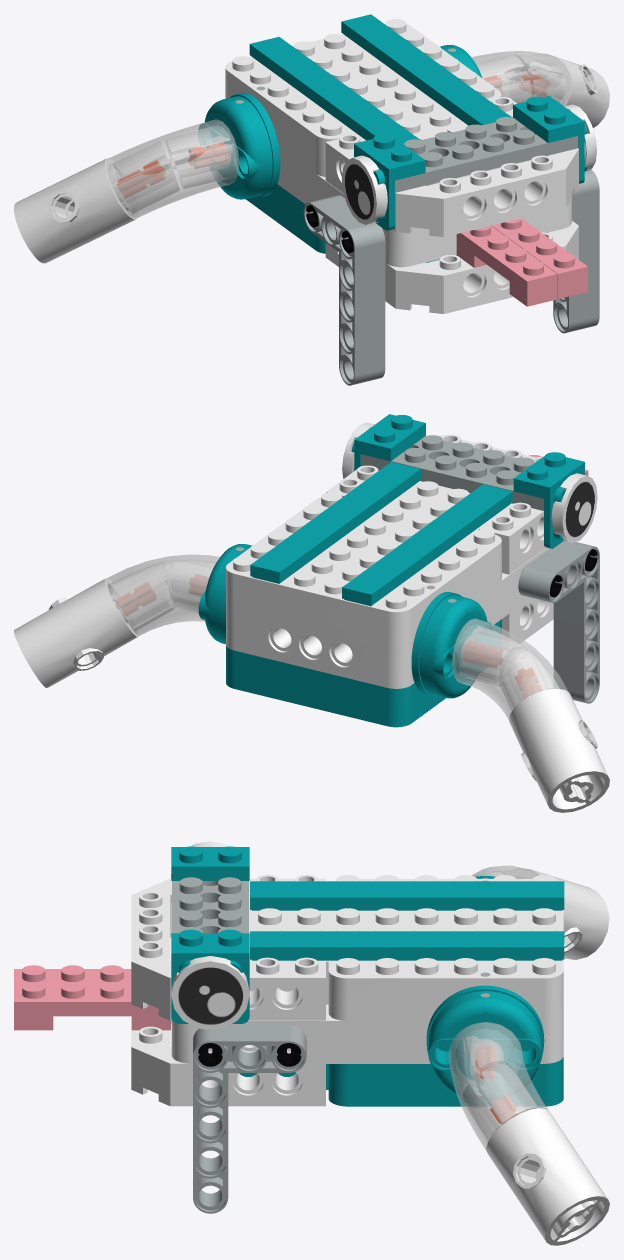
The model's file is Sapo 1.glb.
3 views of the same model, one above another, from view 1: azimuth 30°, elevation 25°; view 2: azimuth 150°, elevation 25°; view 3: azimuth 270°, elevation 25° (orthographic). The views are drawn at different scales.
Visible parts, largest first — view 1: Inner-Node-Sapo_dot_io-0, Inner-Node-Sapo_dot_io-4, Inner-Node-Sapo_dot_io-14, Inner-Node-Sapo_dot_io-21, Inner-Node-Sapo_dot_io-23, Inner-Node-Sapo_dot_io-1, Inner-Node-Sapo_dot_io-5, Inner-Node-Sapo_dot_io-24, Inner-Node-Sapo_dot_io-25, Inner-Node-Sapo_dot_io-2, Inner-Node-Sapo_dot_io-10, Inner-Node-Sapo_dot_io-17 (+7 smaller); view 2: Inner-Node-Sapo_dot_io-0, Inner-Node-Sapo_dot_io-23, Inner-Node-Sapo_dot_io-14, Inner-Node-Sapo_dot_io-19, Inner-Node-Sapo_dot_io-21, Inner-Node-Sapo_dot_io-25, Inner-Node-Sapo_dot_io-24, Inner-Node-Sapo_dot_io-17, Inner-Node-Sapo_dot_io-5, Inner-Node-Sapo_dot_io-4, Inner-Node-Sapo_dot_io-6, Inner-Node-Sapo_dot_io-11 (+3 smaller); view 3: Inner-Node-Sapo_dot_io-0, Inner-Node-Sapo_dot_io-4, Inner-Node-Sapo_dot_io-19, Inner-Node-Sapo_dot_io-25, Inner-Node-Sapo_dot_io-24, Inner-Node-Sapo_dot_io-10, Inner-Node-Sapo_dot_io-17, Inner-Node-Sapo_dot_io-1, Inner-Node-Sapo_dot_io-3, Inner-Node-Sapo_dot_io-11.001, Inner-Node-Sapo_dot_io-5, Inner-Node-Sapo_dot_io-23 (+4 smaller).
Boxes of the visible parts, <box> form: Inner-Node-Sapo_dot_io-0: <box>198,19,571,267</box>; Inner-Node-Sapo_dot_io-4: <box>325,97,578,237</box>; Inner-Node-Sapo_dot_io-14: <box>303,195,385,385</box>; Inner-Node-Sapo_dot_io-21: <box>105,119,239,218</box>; Inner-Node-Sapo_dot_io-23: <box>14,158,138,263</box>; Inner-Node-Sapo_dot_io-1: <box>325,221,578,313</box>; Inner-Node-Sapo_dot_io-5: <box>395,117,578,192</box>; Inner-Node-Sapo_dot_io-24: <box>341,14,511,125</box>; Inner-Node-Sapo_dot_io-25: <box>249,37,419,144</box>; Inner-Node-Sapo_dot_io-2: <box>456,226,557,306</box>; Inner-Node-Sapo_dot_io-10: <box>553,169,599,333</box>; Inner-Node-Sapo_dot_io-17: <box>471,51,570,105</box>; Inner-Node-Sapo_dot_io-0: <box>198,481,549,727</box>; Inner-Node-Sapo_dot_io-23: <box>509,688,609,812</box>; Inner-Node-Sapo_dot_io-14: <box>518,541,599,703</box>; Inner-Node-Sapo_dot_io-19: <box>14,578,138,687</box>; Inner-Node-Sapo_dot_io-21: <box>452,618,568,720</box>; Inner-Node-Sapo_dot_io-25: <box>342,484,512,606</box>; Inner-Node-Sapo_dot_io-24: <box>250,462,420,583</box>; Inner-Node-Sapo_dot_io-17: <box>106,554,219,636</box>; Inner-Node-Sapo_dot_io-5: <box>361,435,543,510</box>; Inner-Node-Sapo_dot_io-4: <box>326,434,546,574</box>; Inner-Node-Sapo_dot_io-6: <box>513,452,584,548</box>; Inner-Node-Sapo_dot_io-11: <box>551,473,597,542</box>; Inner-Node-Sapo_dot_io-0: <box>171,875,563,1106</box>; Inner-Node-Sapo_dot_io-4: <box>131,874,325,1020</box>; Inner-Node-Sapo_dot_io-19: <box>486,1108,609,1245</box>; Inner-Node-Sapo_dot_io-25: <box>250,881,564,910</box>; Inner-Node-Sapo_dot_io-24: <box>250,931,564,960</box>; Inner-Node-Sapo_dot_io-10: <box>193,1024,306,1213</box>; Inner-Node-Sapo_dot_io-17: <box>448,1022,548,1150</box>; Inner-Node-Sapo_dot_io-1: <box>131,1016,325,1106</box>; Inner-Node-Sapo_dot_io-3: <box>14,982,170,1030</box>; Inner-Node-Sapo_dot_io-11.001: <box>171,956,249,1030</box>; Inner-Node-Sapo_dot_io-5: <box>172,877,248,933</box>; Inner-Node-Sapo_dot_io-23: <box>507,868,609,959</box>.
Bounding box in the file's own units: 385 × 143 × 303.
10 materials, 1 textured.
